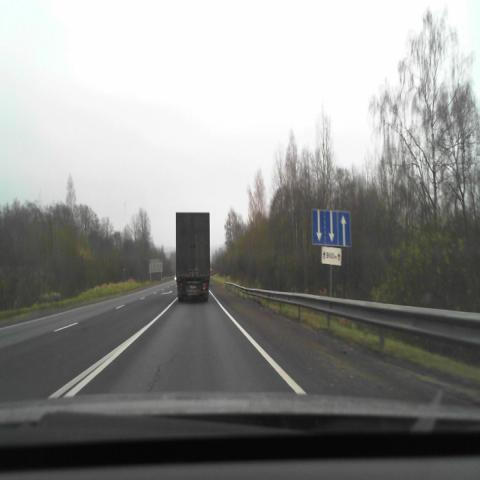5_15_7: (311, 209, 351, 247)
